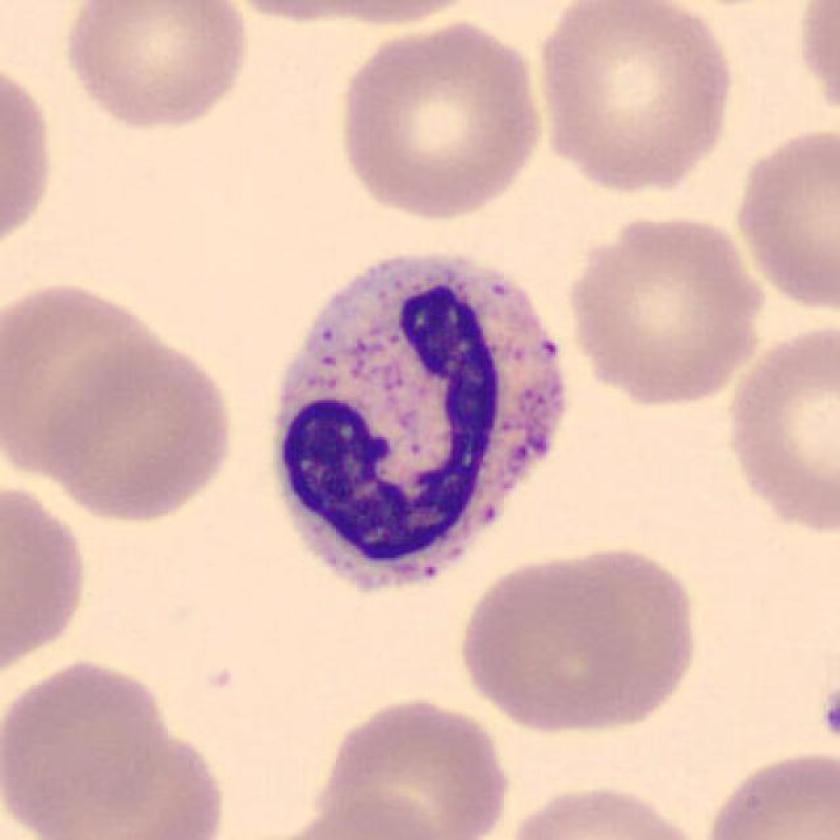neutrophil: (270, 258, 567, 589)
